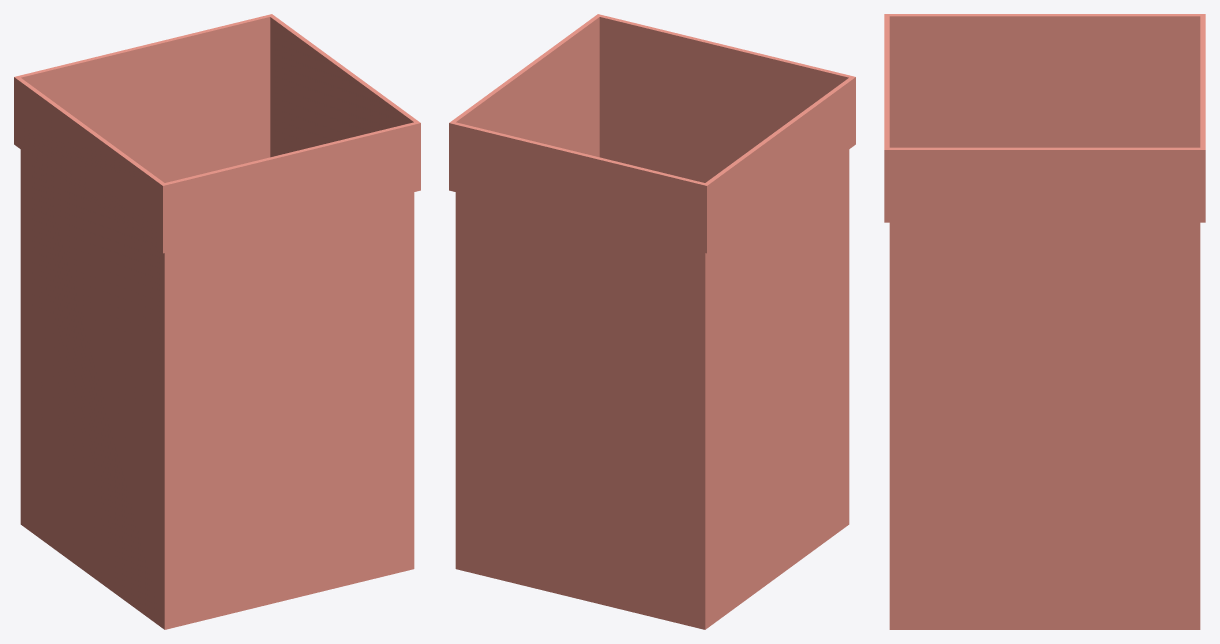
The model's file is black02.dae.
The picture shows the model from 3 angles, left to right: view 1: azimuth 30°, elevation 25°; view 2: azimuth 150°, elevation 25°; view 3: azimuth 270°, elevation 25°; orthographic projection. The views are drawn at different scales.
Visible parts, largest first — view 1: pCube1; view 2: pCube1; view 3: pCube1.
Part boxes in pixels (x1,y1,x2,y2): pCube1: (14, 14, 420, 629); pCube1: (449, 14, 855, 629); pCube1: (884, 14, 1205, 629).
Size of the model in its own units: 2 by 3.31 by 2.
